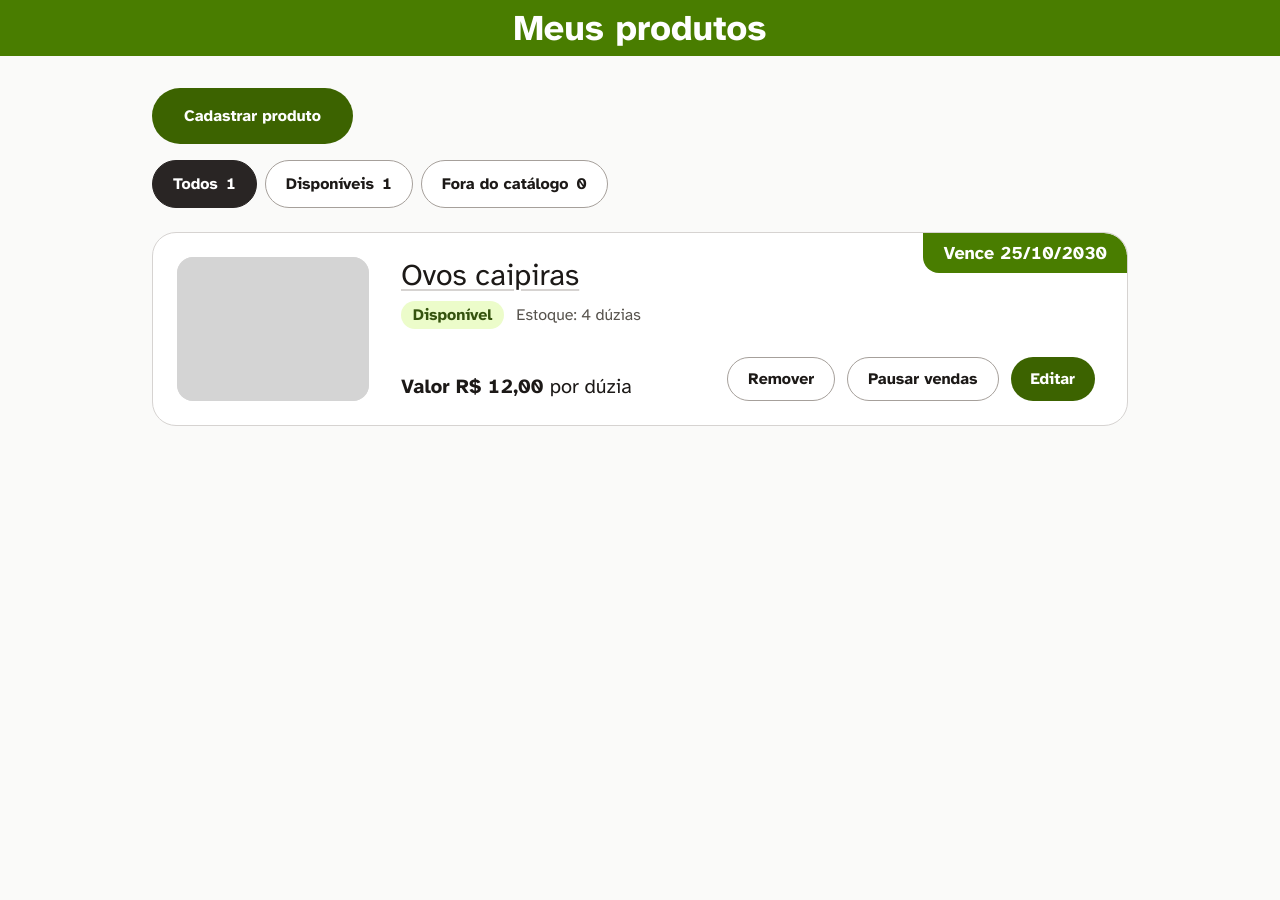
Scenario: MyProducts, unit of sale › opens the product with its unit and sends the one chosen on edit
Later steps or results of the test are not shown.
Click the button "Editar" at {"x": 1053, "y": 379}, box [1010,357,1095,401]
(page scrolled)
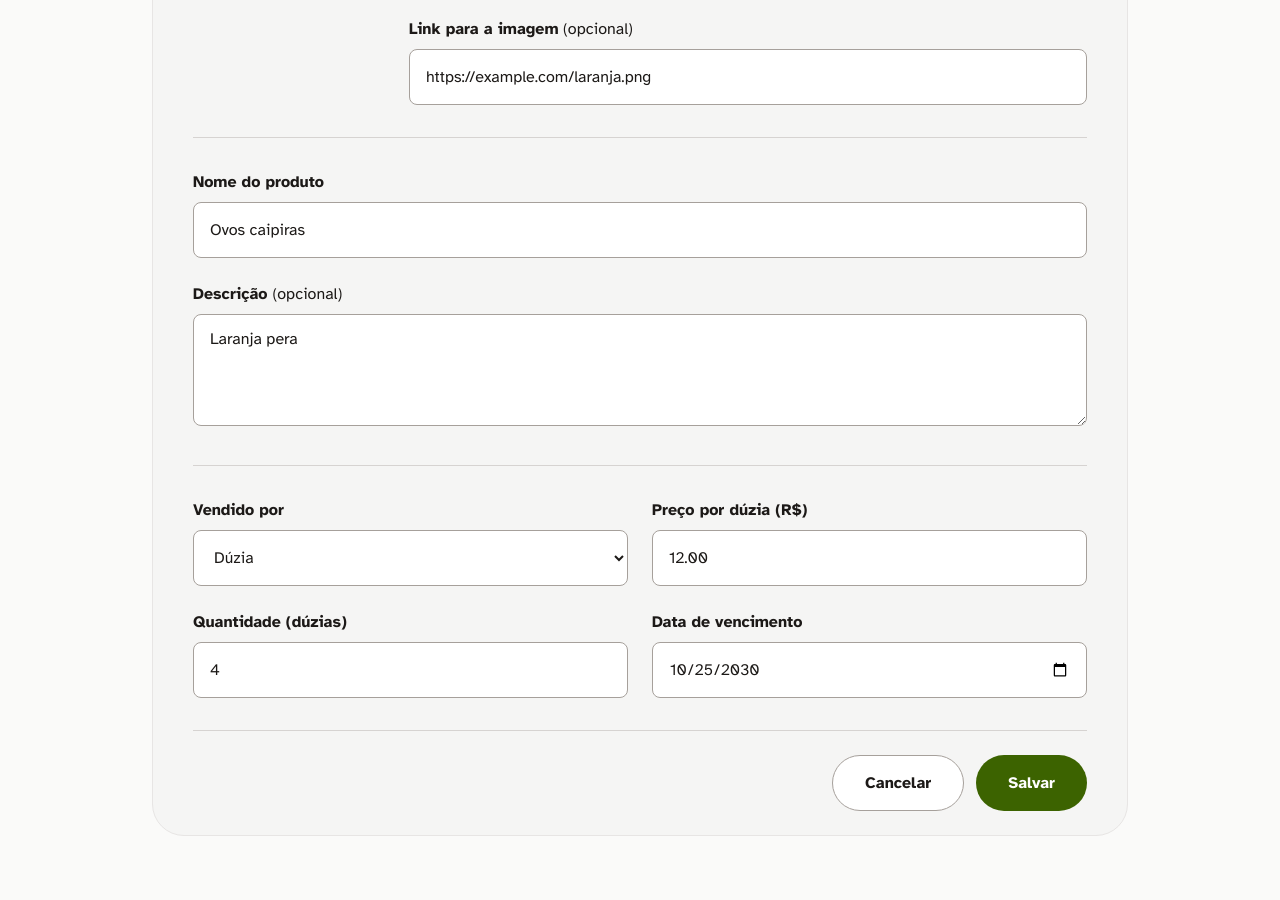
Now the dropdown labelled "Vendido por" shows "Dúzia", box [193,530,628,586]
Now the number field labelled "Quantidade (dúzias)" holds "4", box [193,642,628,698]
